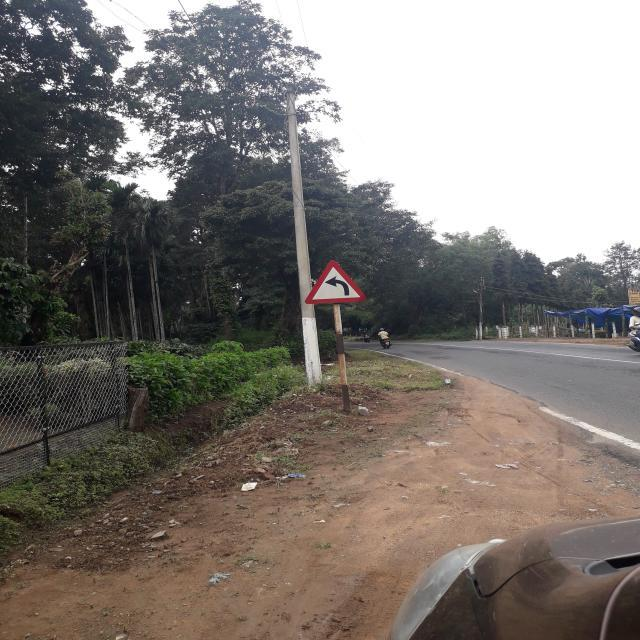left hand curve: (310, 257, 371, 304)
